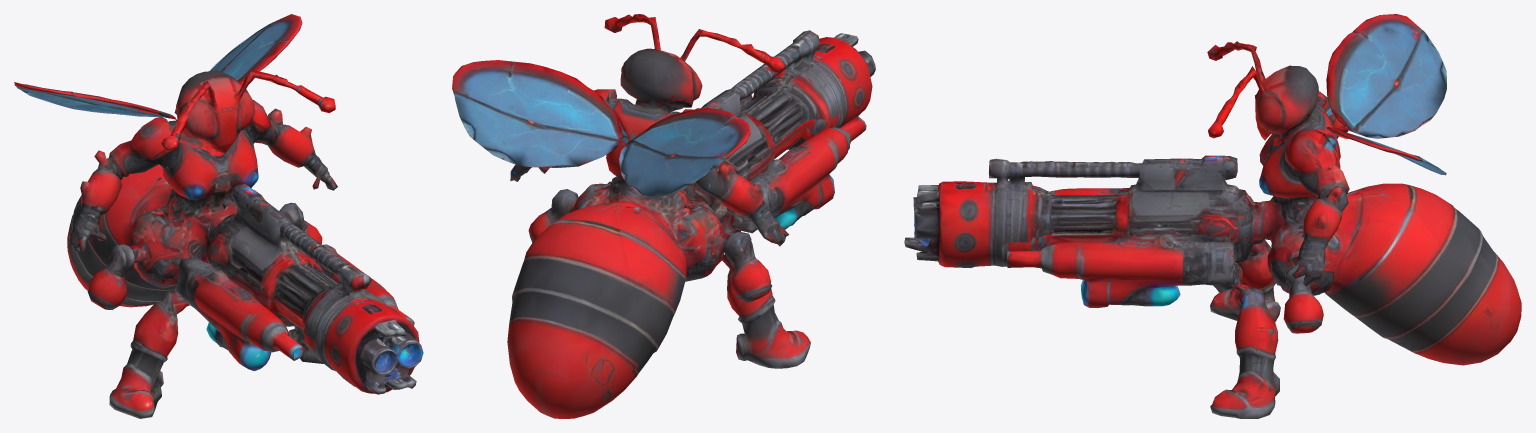
The model's file is Cybernetic_Wasp.glb.
3 views of the same model, side by side, from view 1: azimuth 30°, elevation 25°; view 2: azimuth 150°, elevation 25°; view 3: azimuth 270°, elevation 25° (orthographic). The views are drawn at different scales.
Visible parts, largest first — view 1: Mesh1; view 2: Mesh1; view 3: Mesh1.
Boxes of the visible parts, x1=… form: Mesh1: x1=14, y1=14, x2=423, y2=418; Mesh1: x1=452, y1=14, x2=875, y2=418; Mesh1: x1=904, y1=14, x2=1521, y2=418.
Size of the model in its own units: 1.05 by 1.08 by 1.99.
1 material, 1 textured.
